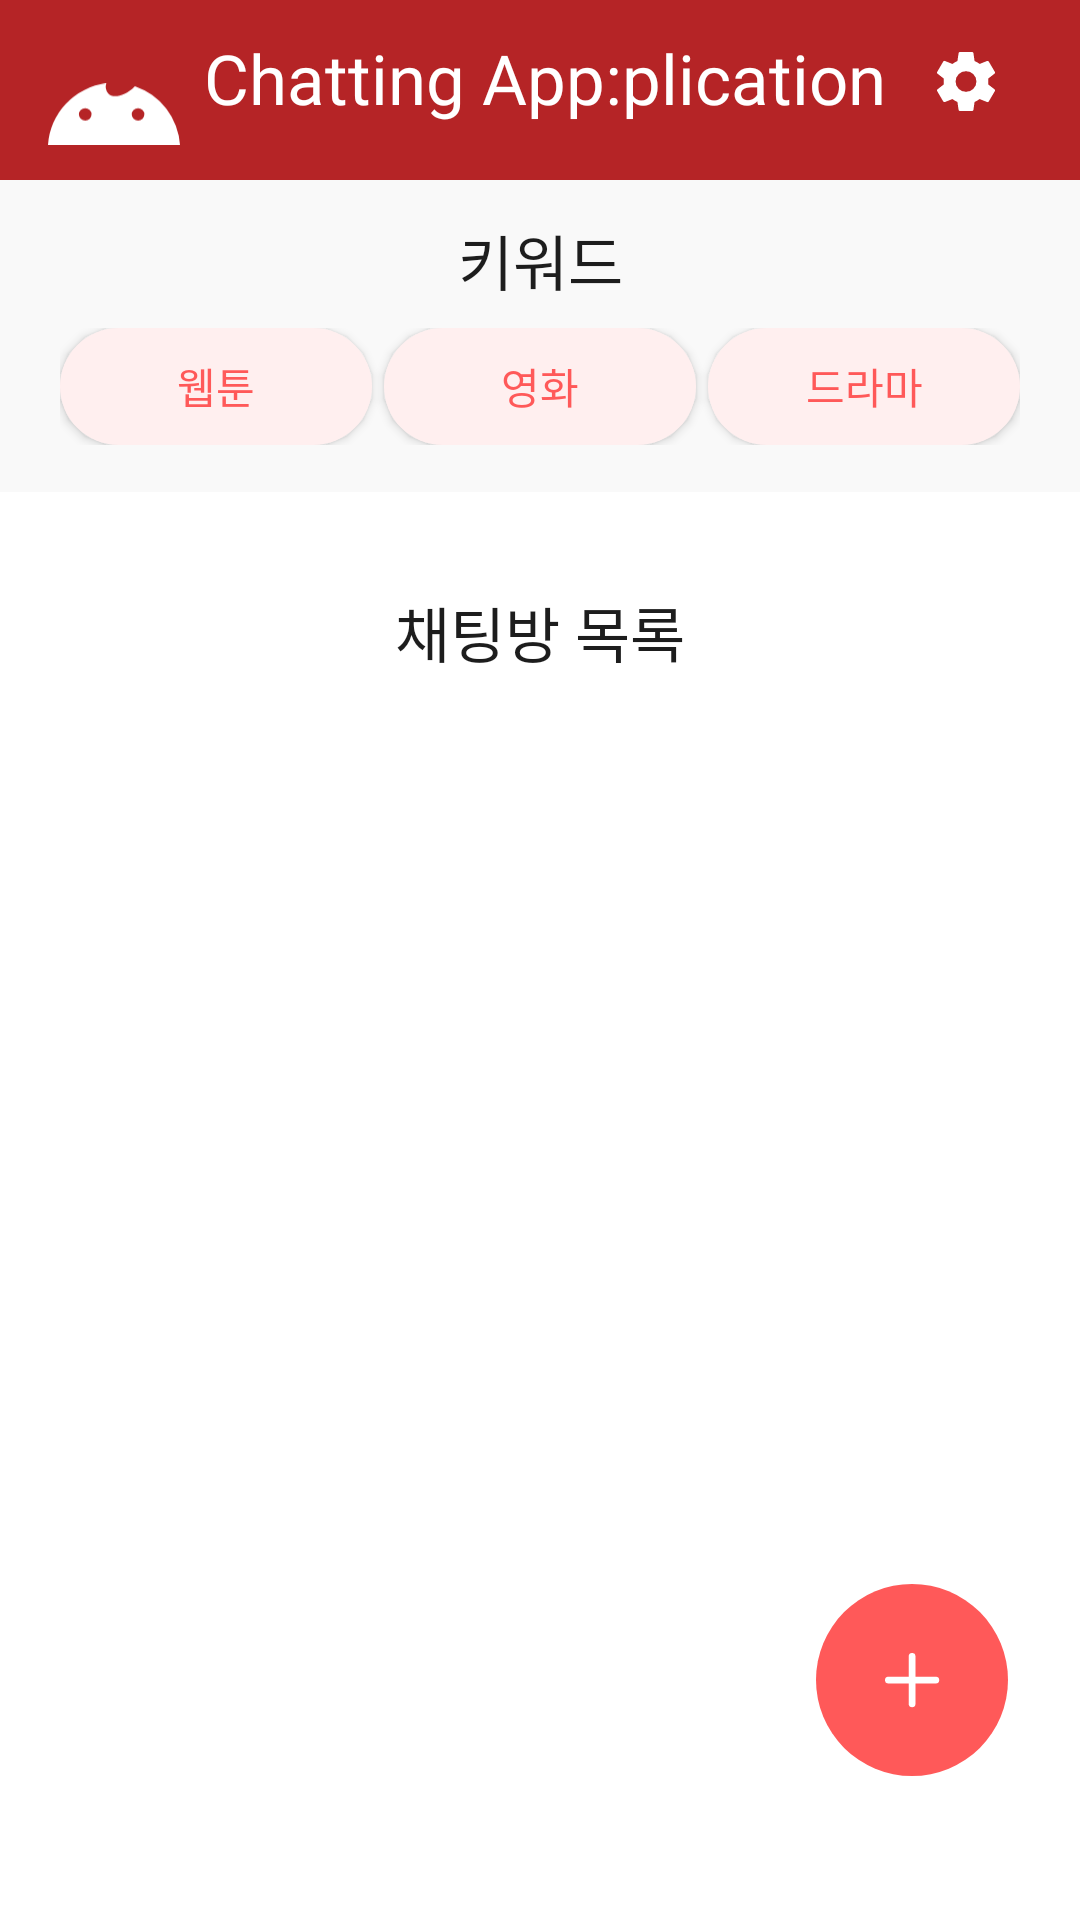

Screen size 1080*1920. Icon name, then its box in pixels as (x1, y1, x2, y2):
plus: (816, 1584, 1008, 1776)
settings: (937, 52, 995, 111)
